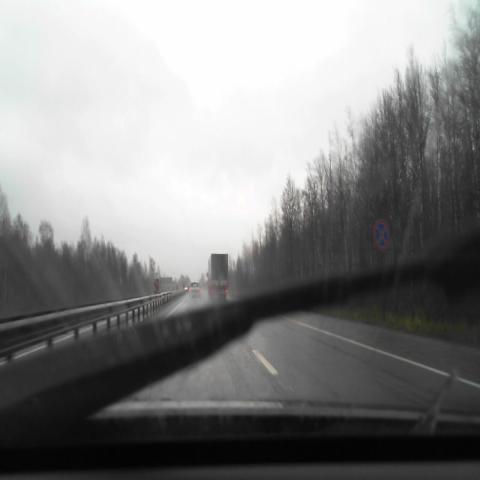3_27: (374, 219, 390, 250)
